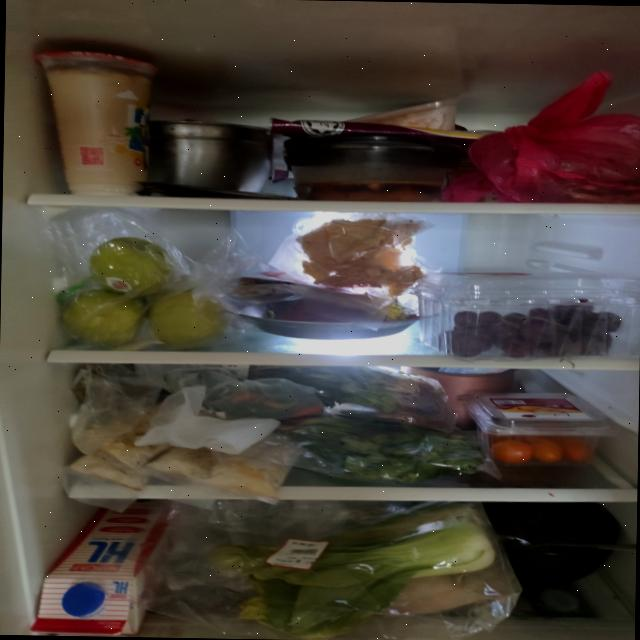apple: (61, 236, 228, 350)
grape: (437, 295, 622, 359)
leafy_greens: (211, 496, 496, 636), (286, 418, 484, 483)
tempeh: (69, 398, 294, 498)
unknown_bag: (441, 67, 640, 205)
